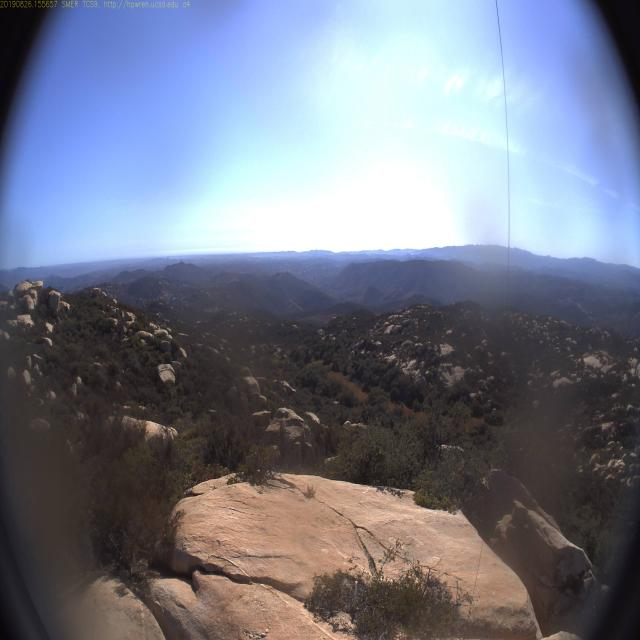smoke: (408, 247, 418, 258), (364, 250, 374, 258)
